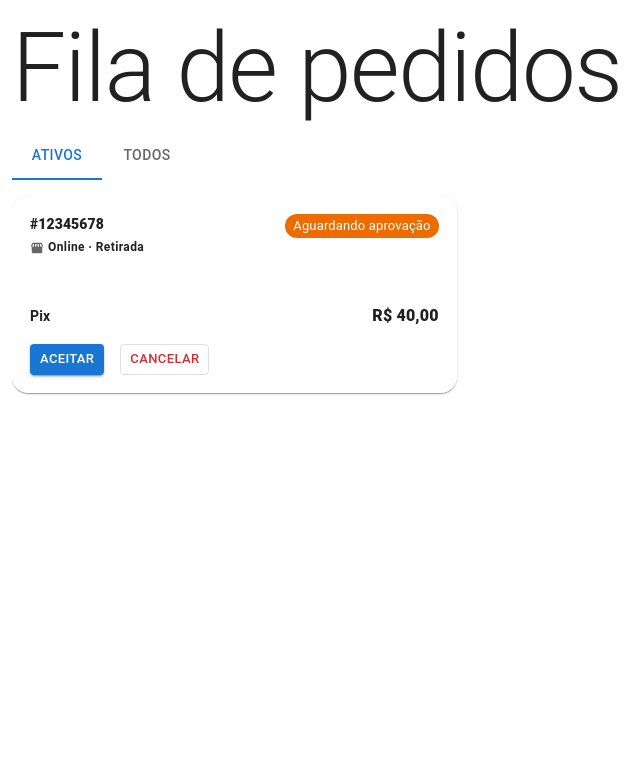
PedidosPage › mostra a mensagem de erro do service quando a ação falha
Click the button "Aceitar" at (67, 359), box [30, 344, 104, 375]
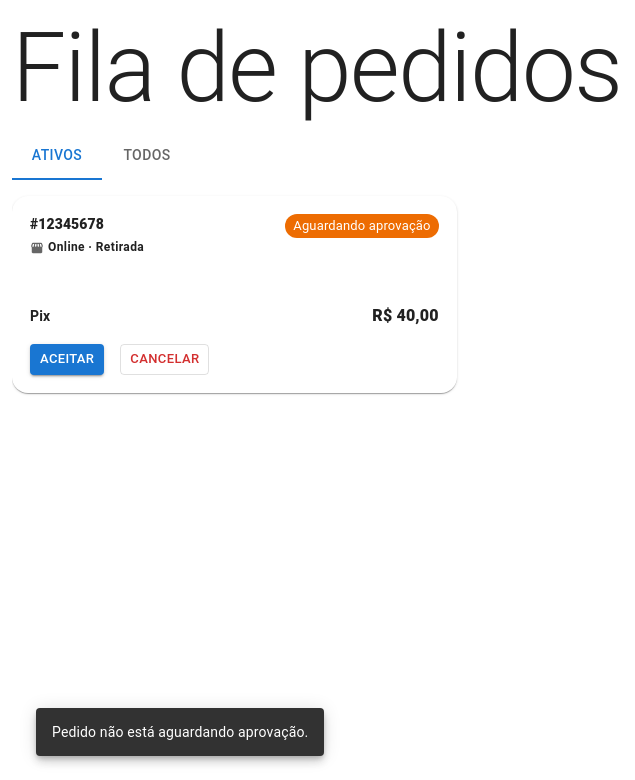
Check: the text "Pedido não está aguardando aprovação." is shown, box [52, 724, 308, 740]
